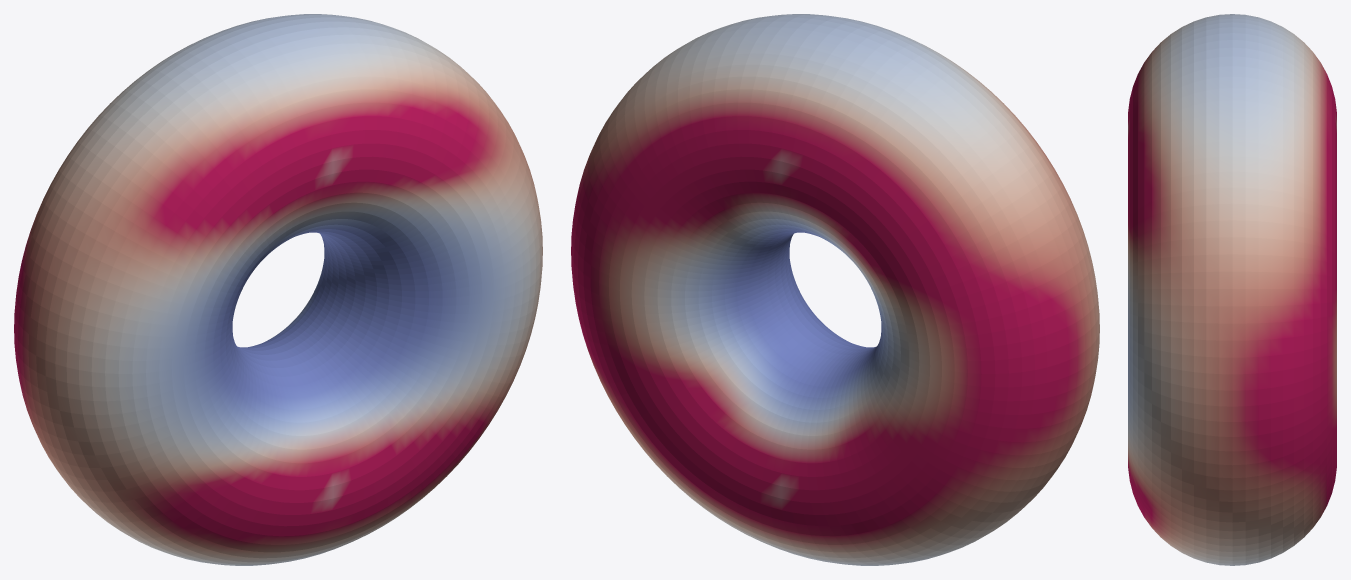
The picture shows the model from 3 angles, left to right: view 1: azimuth 30°, elevation 25°; view 2: azimuth 150°, elevation 25°; view 3: azimuth 270°, elevation 25°; orthographic projection. The views are drawn at different scales.
Visible parts, largest first — view 1: world; view 2: world; view 3: world.
Boxes of the visible parts, bbox=[...] form: world: bbox=[14, 14, 542, 565]; world: bbox=[571, 14, 1099, 565]; world: bbox=[1128, 14, 1336, 565].
Bounding box in the file's own units: 21.47 × 21.47 × 8.12.
